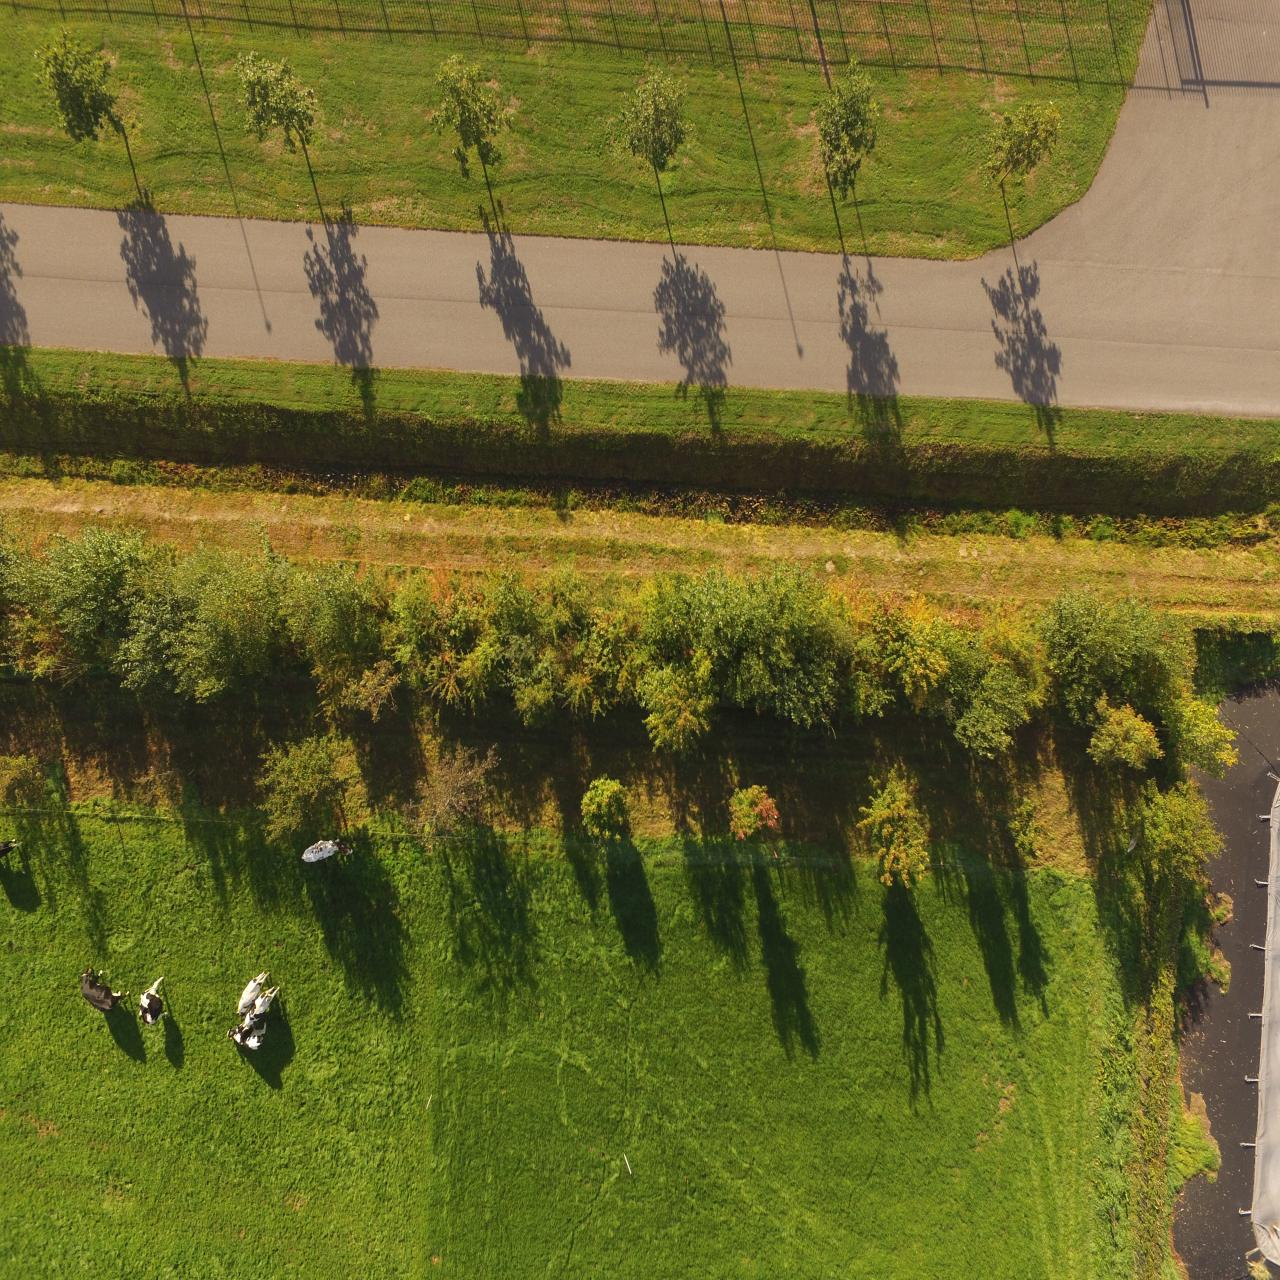cow: (78, 967, 130, 1012), (136, 970, 172, 1030), (295, 839, 359, 865), (234, 965, 270, 1005), (244, 982, 277, 1025), (220, 1024, 271, 1050)
